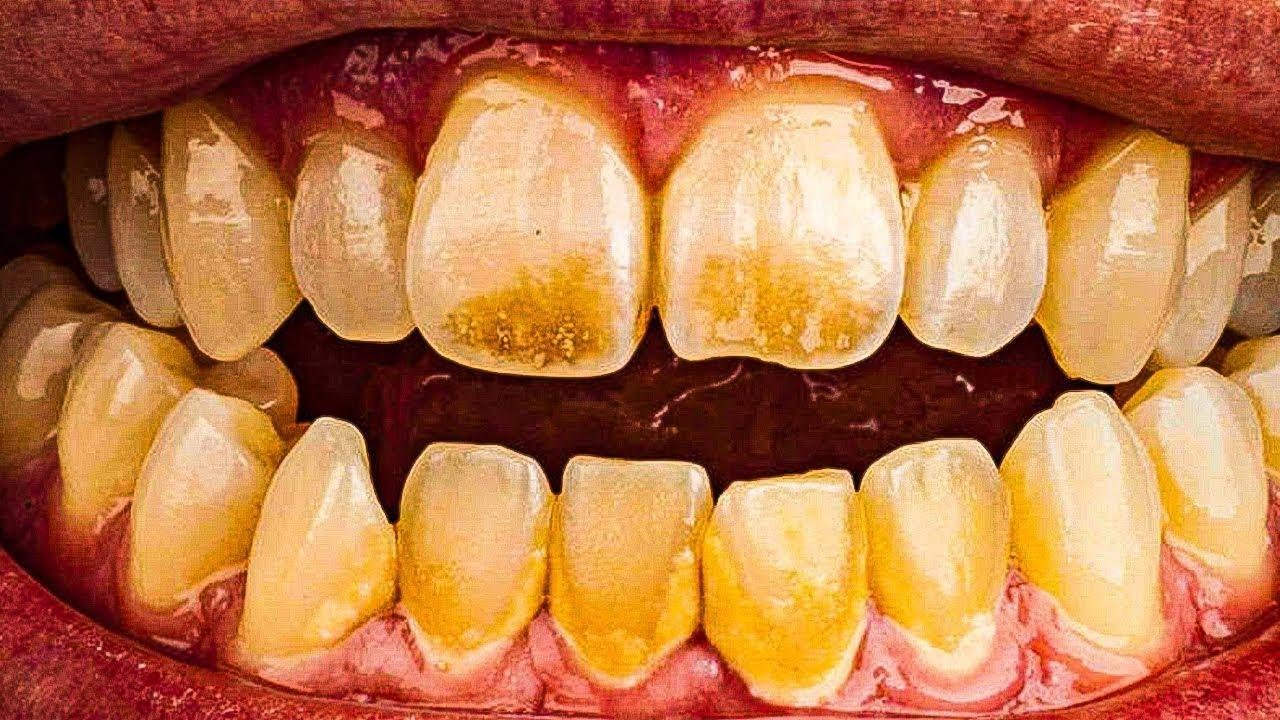UL1BC_healthy: (1140, 371, 1277, 588)
ULCI_decay: (651, 88, 893, 381)
ULCI_healthy: (703, 457, 861, 704)
ULC_healthy: (1024, 134, 1190, 390), (1016, 400, 1160, 656)
ULLI_healthy: (900, 126, 1039, 368), (868, 436, 1001, 649)
UR1BC_healthy: (128, 391, 289, 618)
UR2BC_healthy: (66, 332, 177, 535)
URCI_decay: (420, 80, 662, 379)
URCI_healthy: (561, 445, 705, 686)
URC_decay: (166, 110, 300, 365)
URC_healthy: (232, 419, 399, 675)
URLI_decay: (290, 129, 416, 355)
URLI_healthy: (401, 436, 546, 665)
